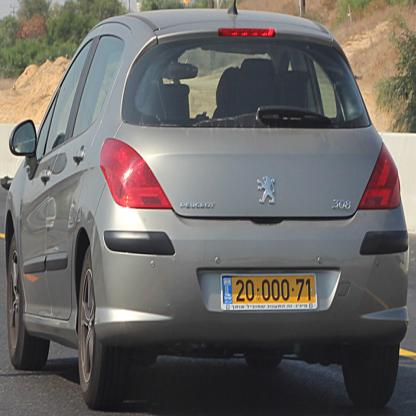Car: (1, 1, 411, 409)
